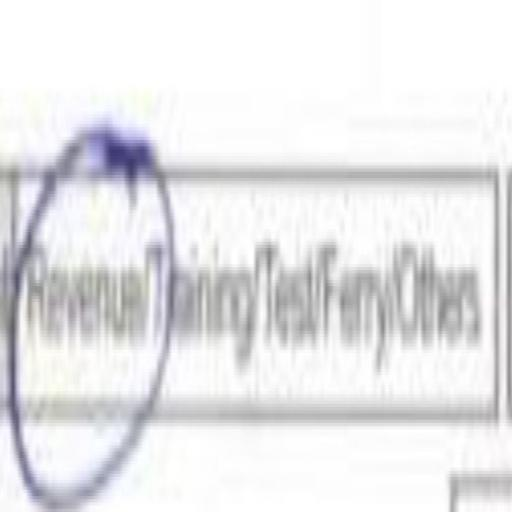check: (21, 100, 147, 512)
